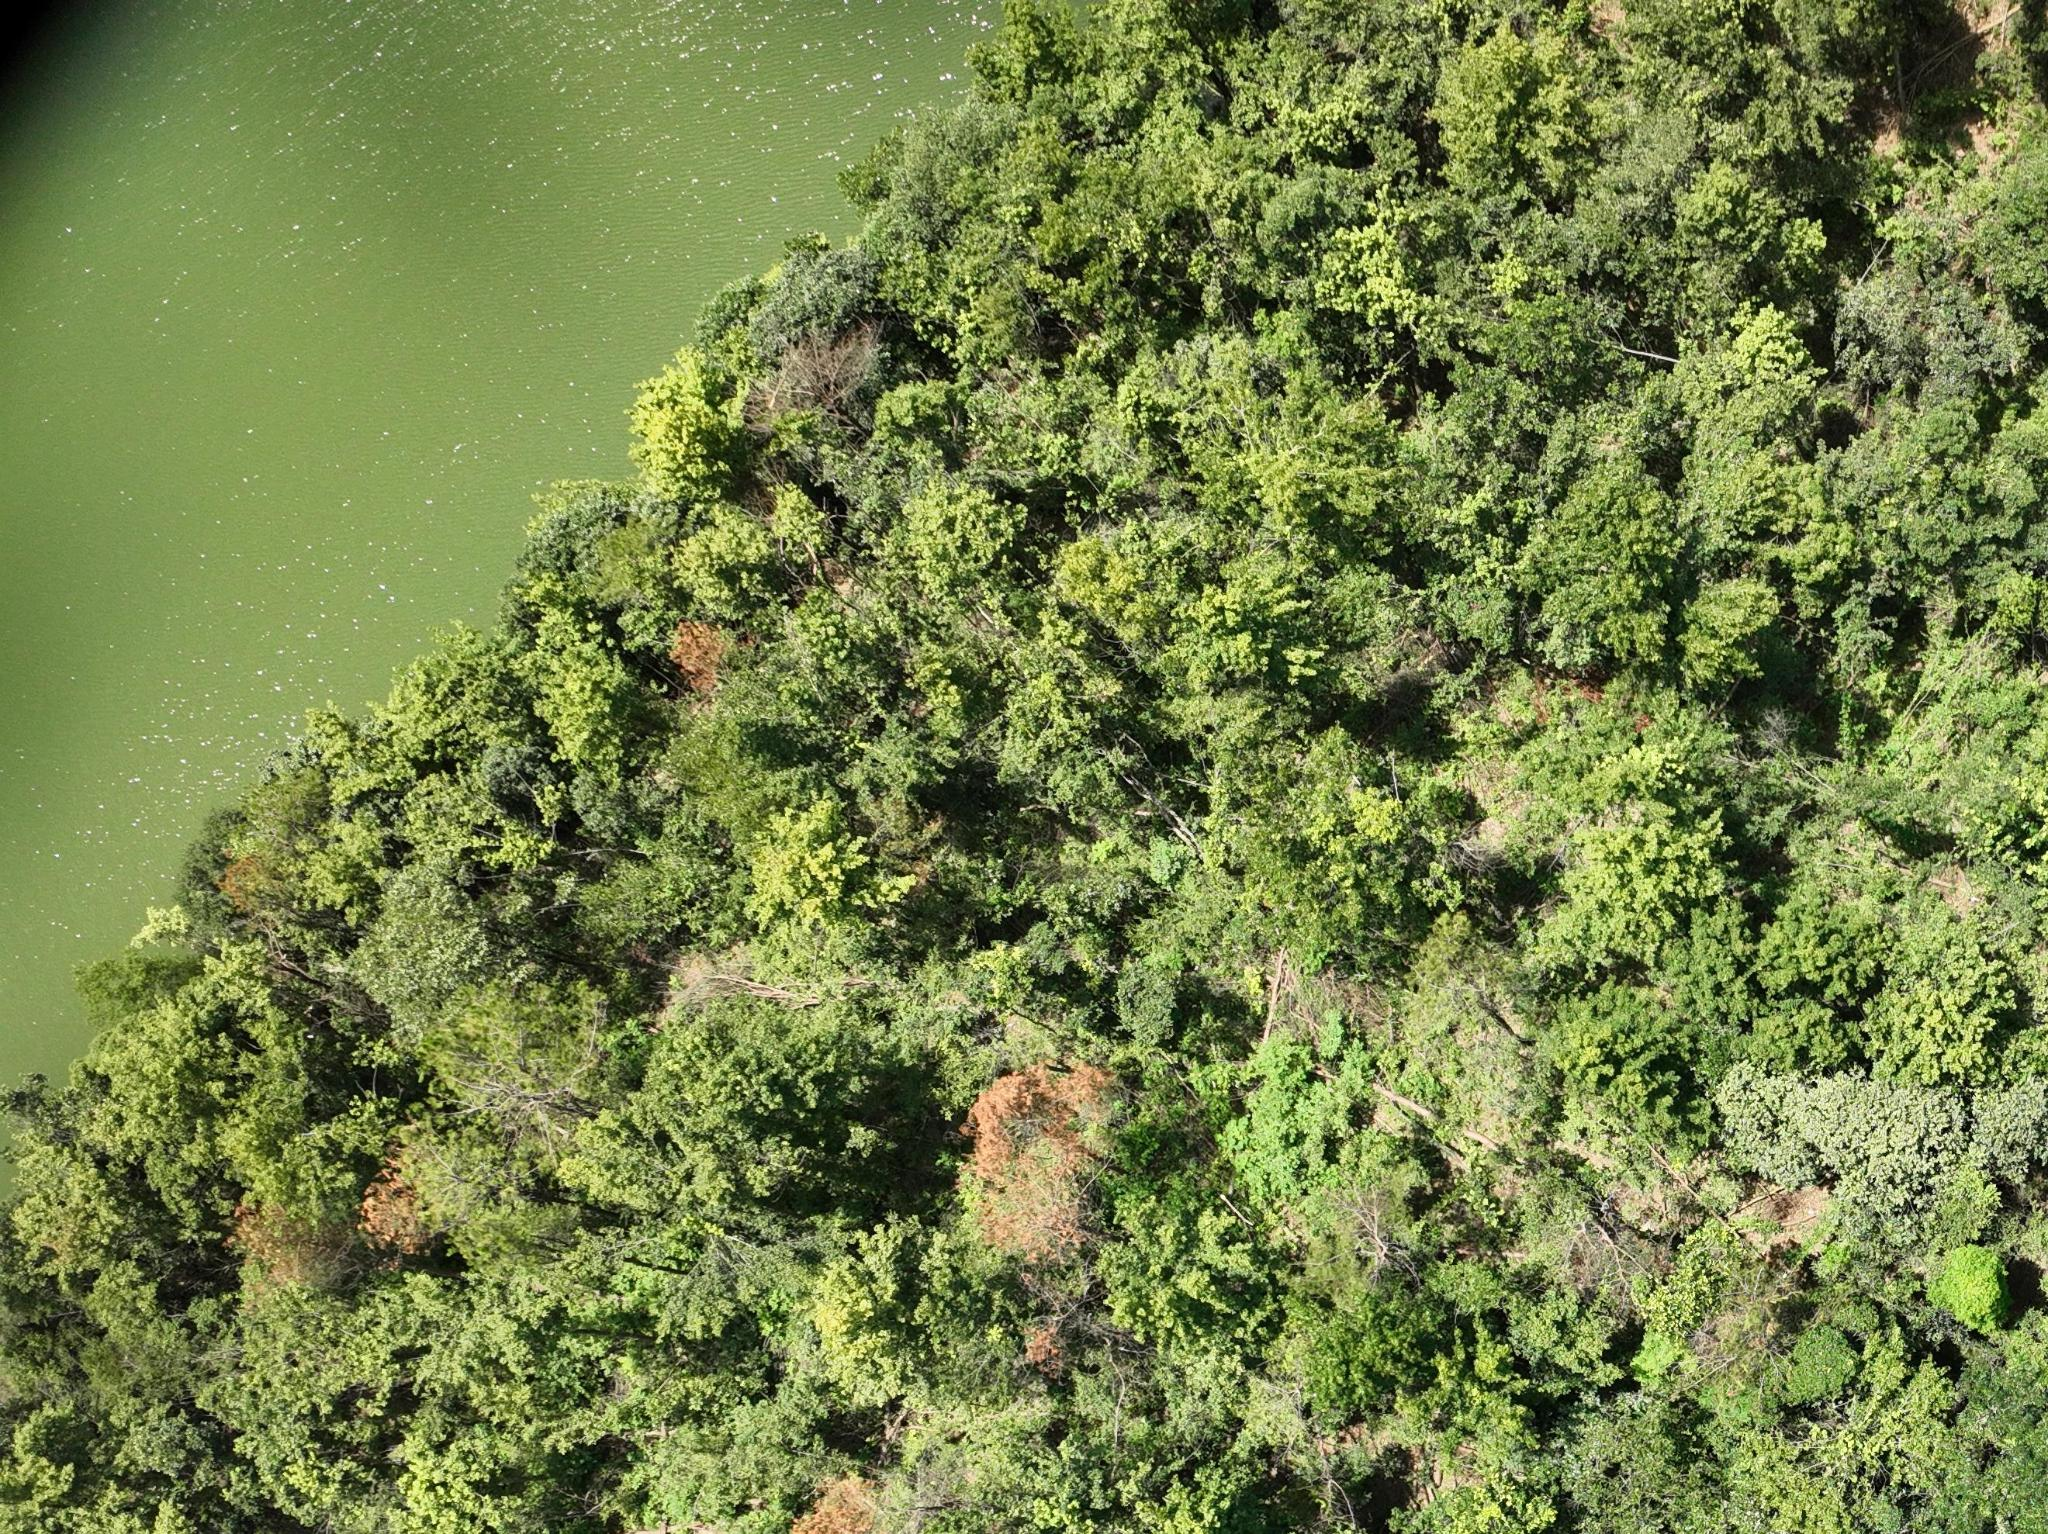dead: (757, 325, 886, 411)
heavy: (964, 1051, 1113, 1268), (351, 1152, 427, 1263), (227, 1199, 314, 1289), (661, 619, 728, 693)
